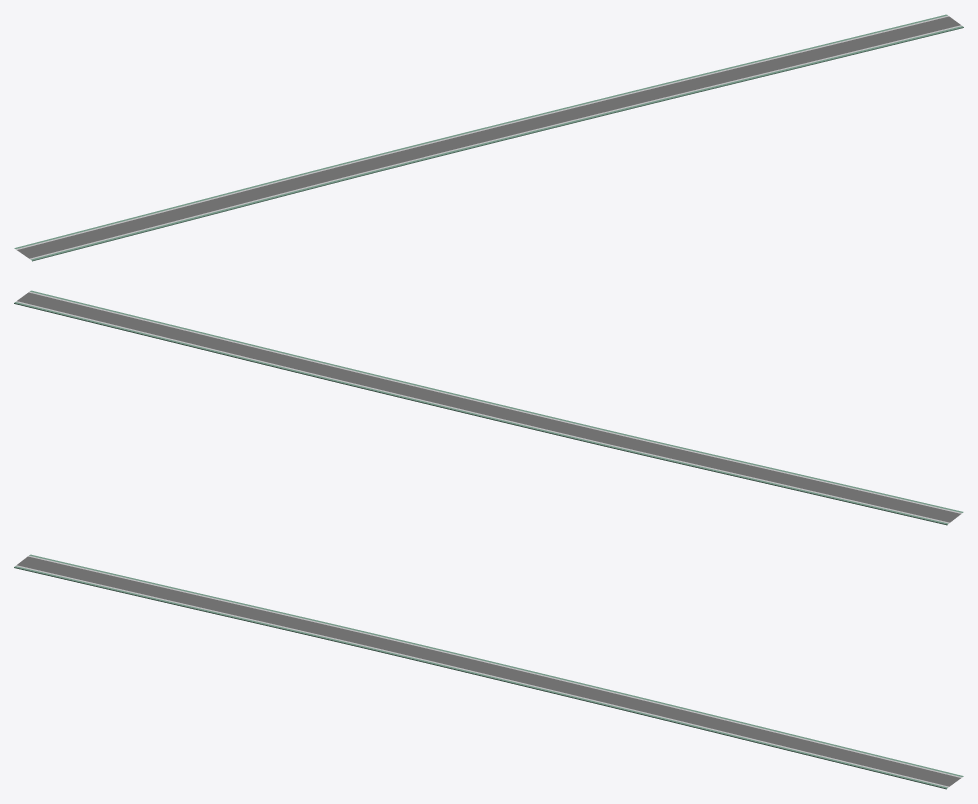
Rendered from road_roam_to2_neon_docks.glb.
3 renders of one model, top to bottom at view 1: azimuth 30°, elevation 25°; view 2: azimuth 150°, elevation 25°; view 3: azimuth 330°, elevation 25°, orthographic.
Visible parts, largest first — view 1: road; view 2: road; view 3: road.
Boxes of the visible parts, x1,y1,x2,y2 form: road: [14, 14, 963, 261]; road: [14, 290, 963, 525]; road: [14, 554, 963, 789].
Size of the model in its own units: 376 by 0.32 by 16.46.
